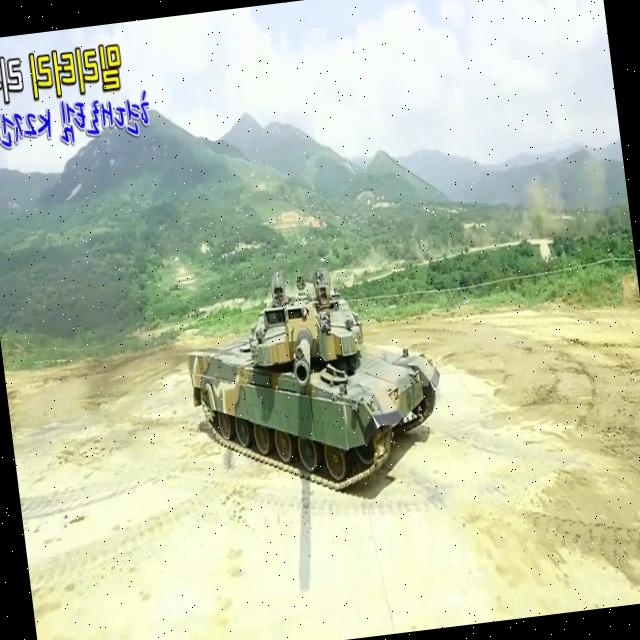korea tank: (178, 254, 450, 505)
